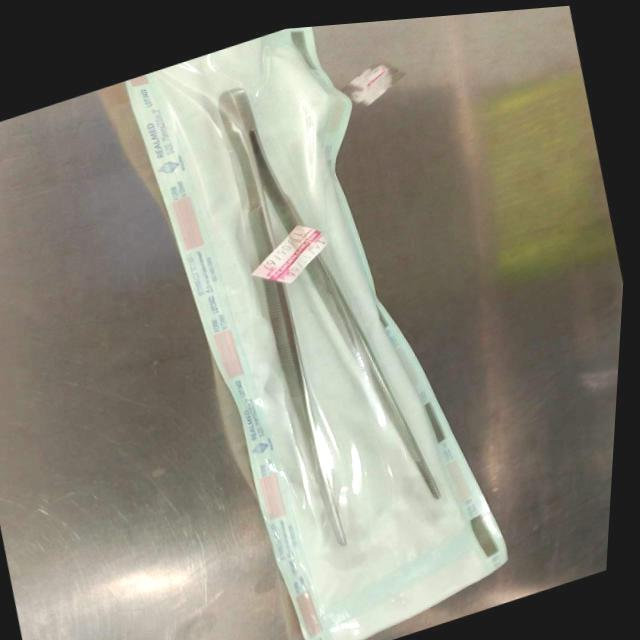General: (113, 26, 512, 639)
Sharps: (218, 85, 442, 524)
